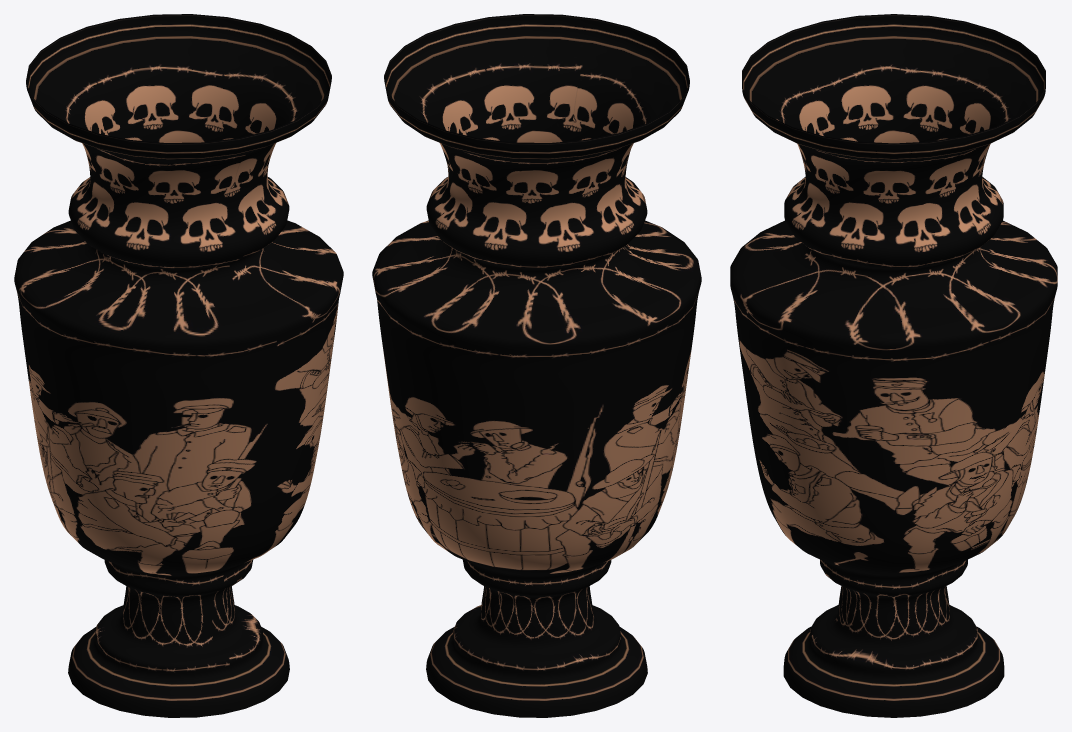
Rendered from unknownsoldier.glb.
3 views of the same model, side by side, from view 1: azimuth 30°, elevation 25°; view 2: azimuth 150°, elevation 25°; view 3: azimuth 270°, elevation 25° (orthographic).
Parts seen in each view (by area): view 1: NurbsPath.001; view 2: NurbsPath.001; view 3: NurbsPath.001.
Part boxes in pixels (bbox=[...]): NurbsPath.001: bbox=[14, 14, 343, 717]; NurbsPath.001: bbox=[372, 14, 701, 717]; NurbsPath.001: bbox=[730, 14, 1057, 717].
Size of the model in its own units: 2.02 by 4.01 by 2.01.
1 material, 1 textured.
